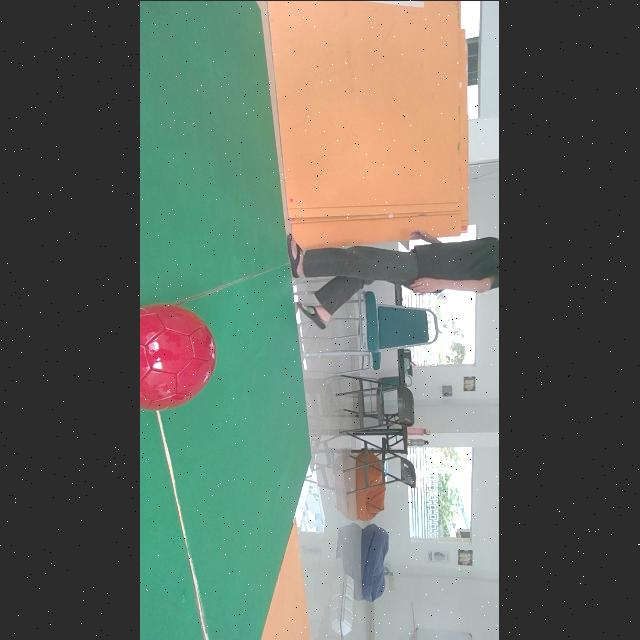R: (140, 303, 216, 409)
